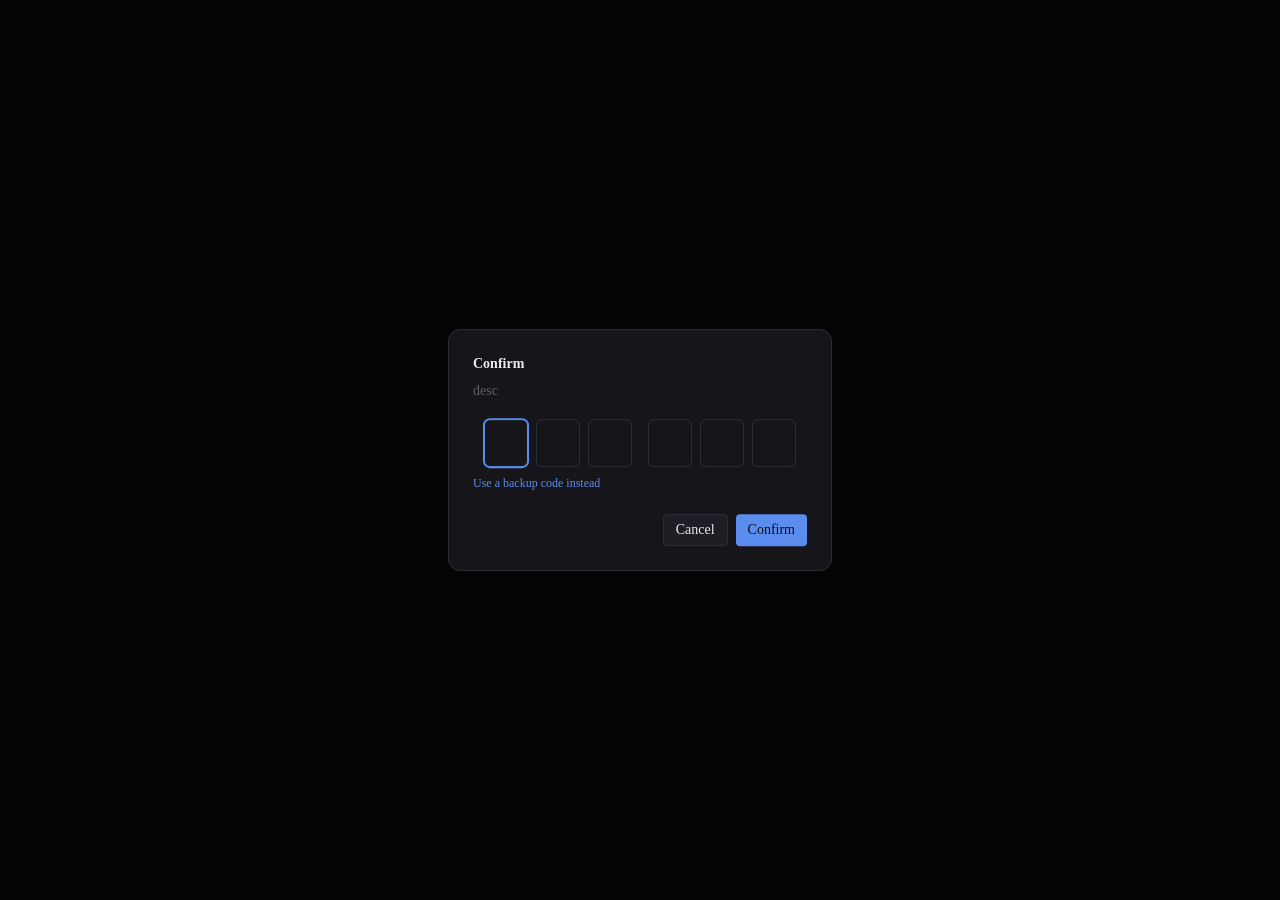
Test: the backup-code field › can be swapped back to the digit boxes
The image size is (1280, 900).
Click the button "Use a backup code instead" at (537,483), box x1=473 y1=475 x2=600 y2=491
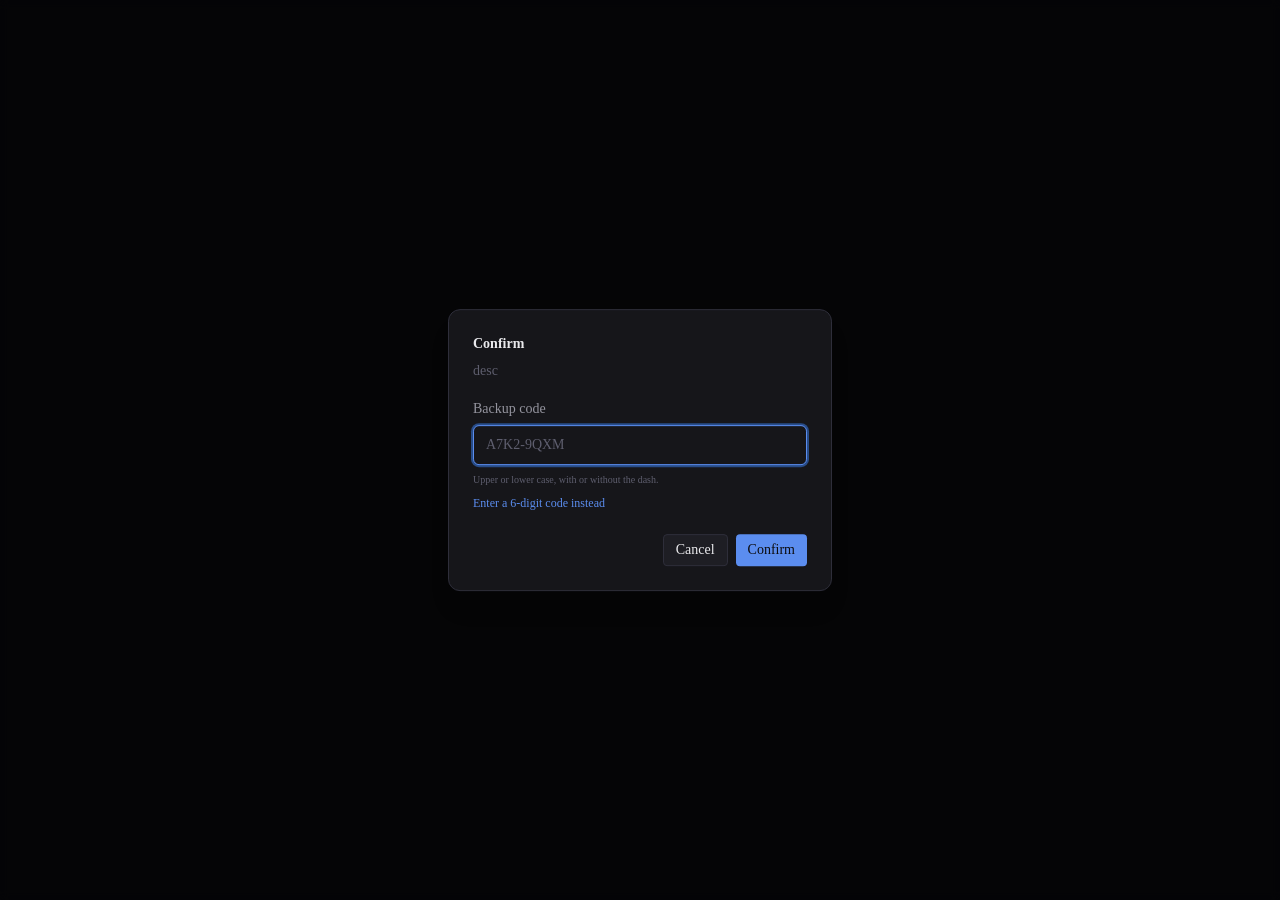
Click the button "Enter a 6-digit code instead" at (539,503), box x1=473 y1=495 x2=605 y2=511
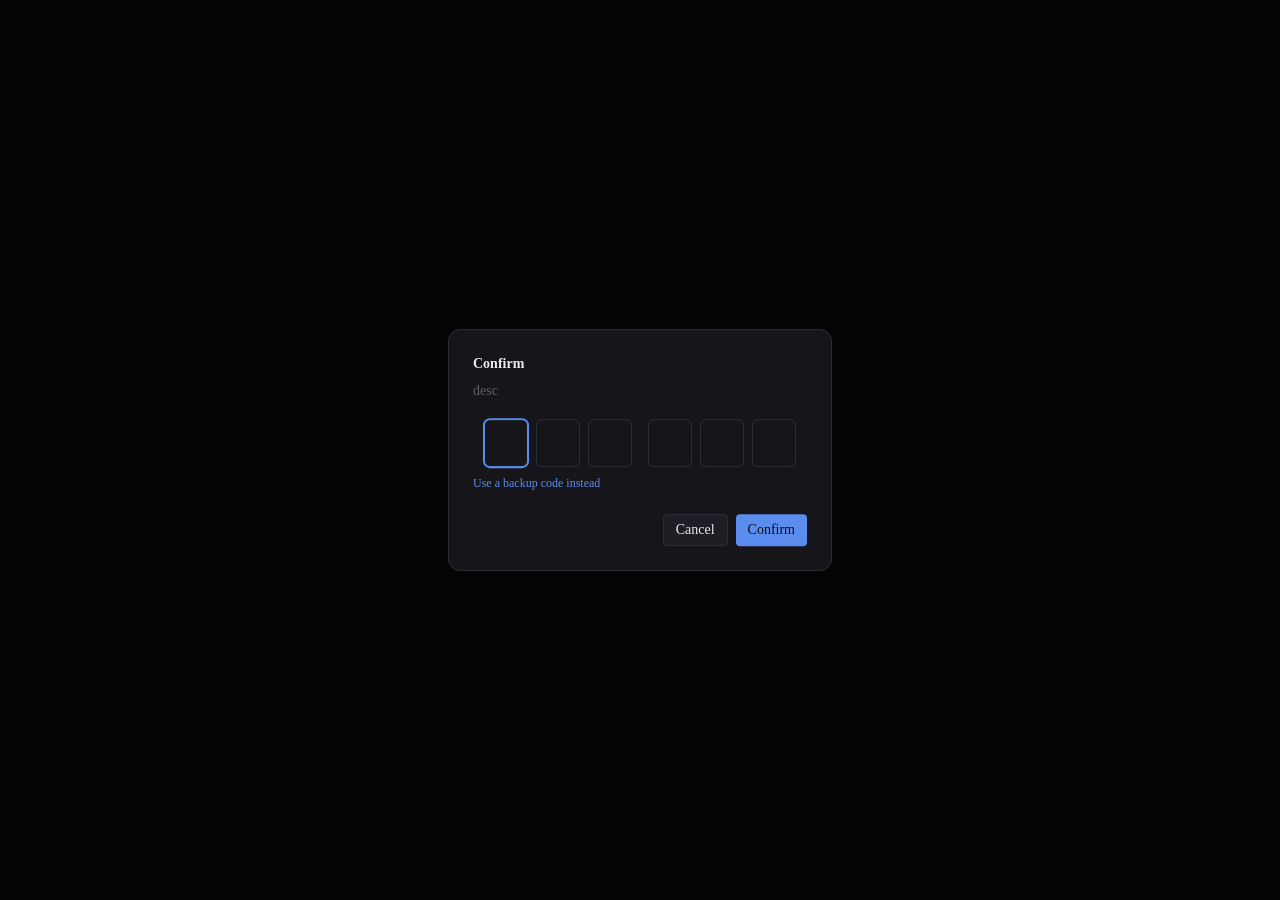
expect the number of fields named "digit " is 6: met, box x1=484 y1=419 x2=528 y2=467; x1=536 y1=419 x2=580 y2=467; x1=588 y1=419 x2=632 y2=467; x1=648 y1=419 x2=692 y2=467; x1=700 y1=419 x2=744 y2=467; x1=752 y1=419 x2=796 y2=467
